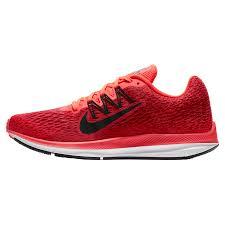nike: (79, 101, 145, 135)
